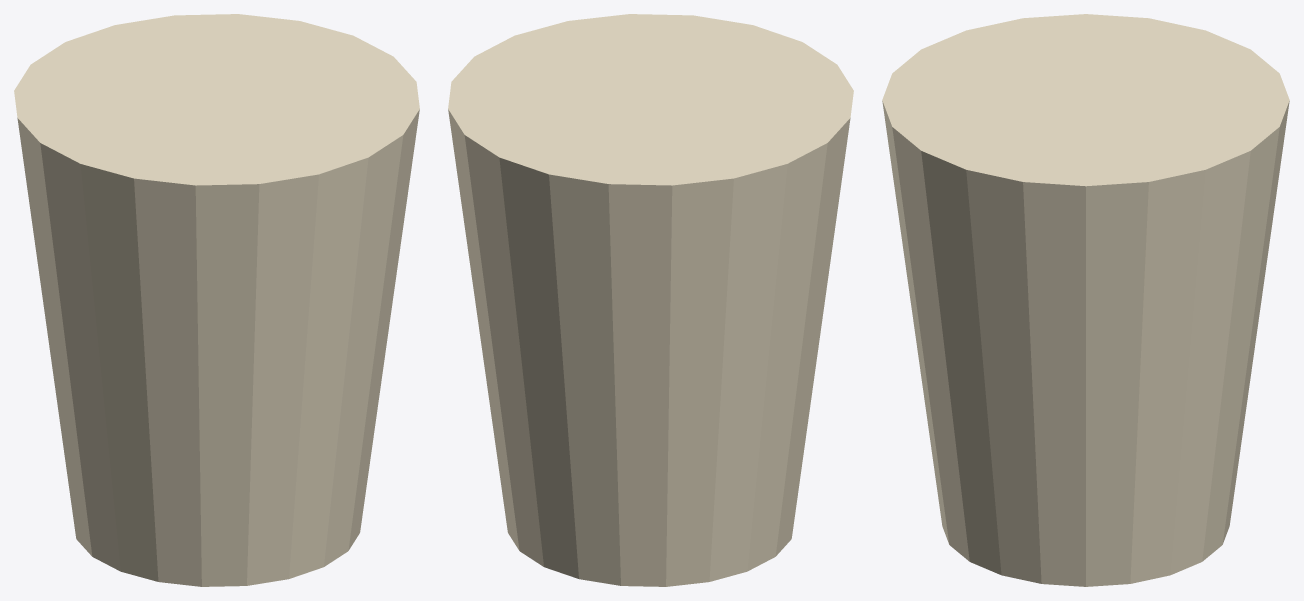
Rendered from empty-coffee-cup.glb.
3 views of the same model, side by side, from view 1: azimuth 30°, elevation 25°; view 2: azimuth 150°, elevation 25°; view 3: azimuth 270°, elevation 25° (orthographic).
Parts seen in each view (by area): view 1: Empty coffee cup; view 2: Empty coffee cup; view 3: Empty coffee cup.
Boxes of the visible parts, x1,y1,x2,y2 form: Empty coffee cup: (14, 14, 419, 586); Empty coffee cup: (448, 14, 853, 586); Empty coffee cup: (882, 14, 1289, 586).
Bounding box in the file's own units: 0.156 × 0.18 × 0.156.
